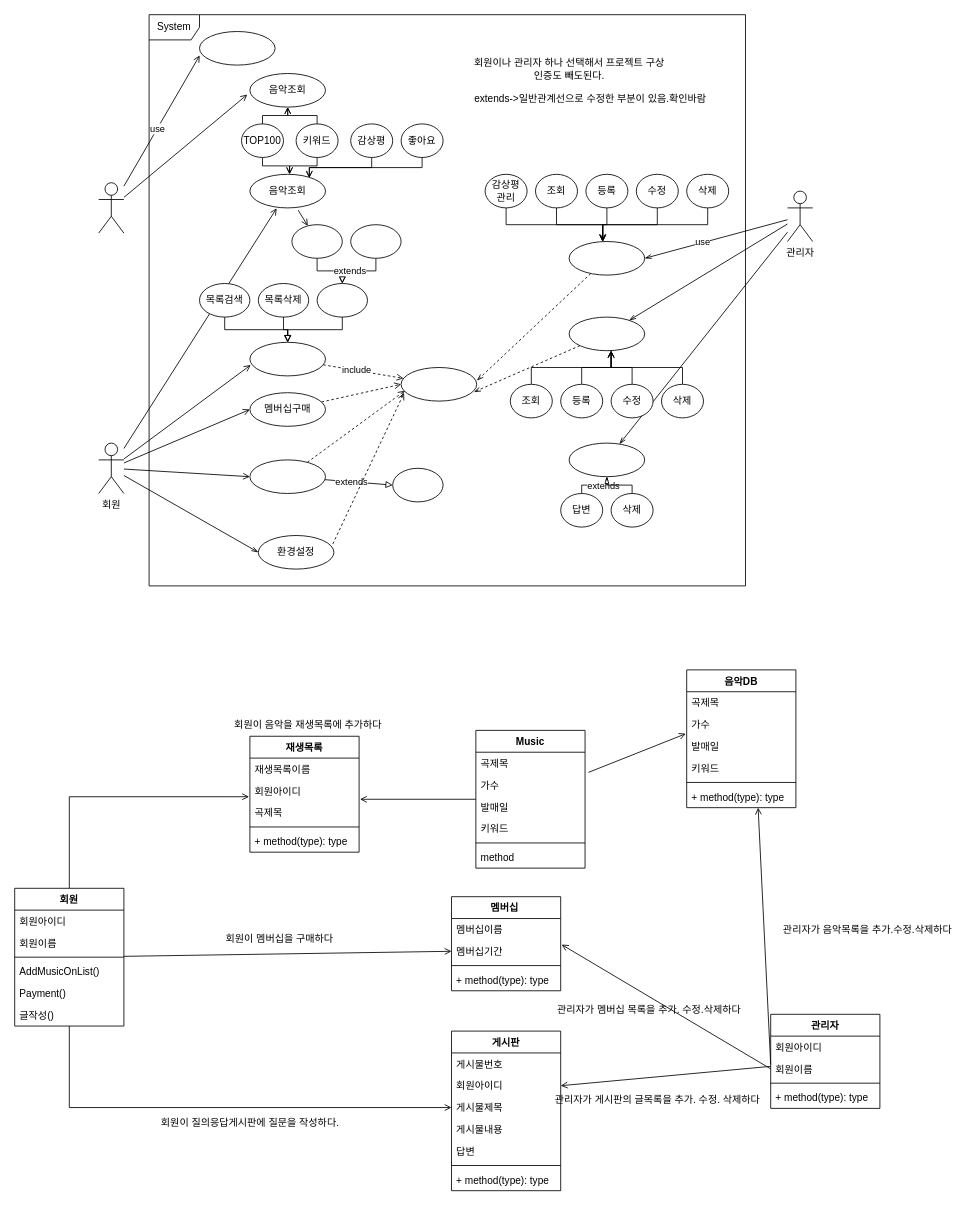
Image size: 979x1208. Some labels were removed from this diagram. Each missing label, with the centre of its shape:
"게시판관리" belongs at pixel 606 459.
"게시판조회" belongs at pixel 287 476.
"멤버십관리" belongs at pixel 606 333.
"목록추가" belongs at pixel 342 300.
"비회원" belongs at pixel 111 207.
"음악관리" belongs at pixel 606 258.
"음악삭제" belongs at pixel 375 241.
"음악추가" belongs at pixel 316 241.
"인증" belongs at pixel 438 384.
"재생목록 관리" belongs at pixel 287 358.
"질문등록" belongs at pixel 417 484.
"회원가입" belongs at pixel 237 48.
